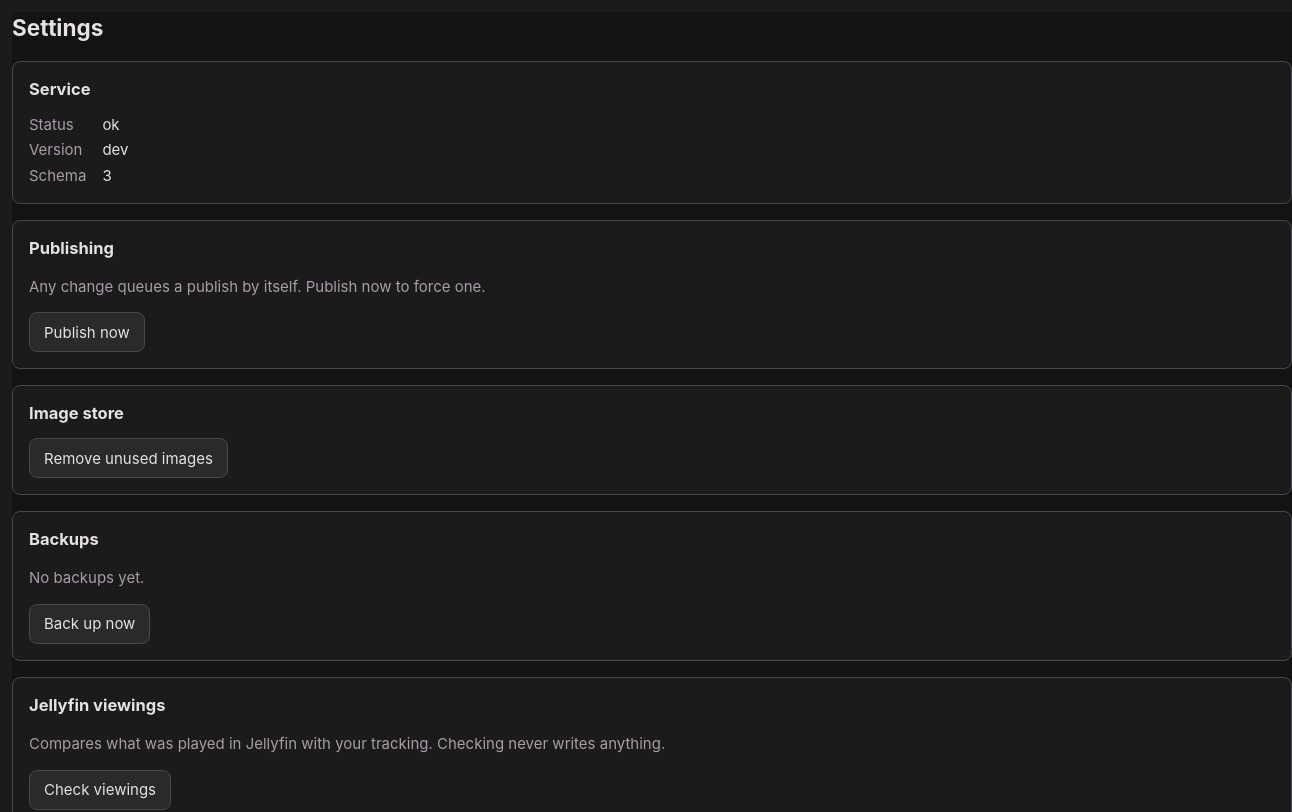
Test case: SettingsView Jellyfin sync › checks without writing and shows the counts
This screenshot has width=1292, height=812.
Click the button "Check viewings" at (100, 790), box [29, 770, 171, 810]
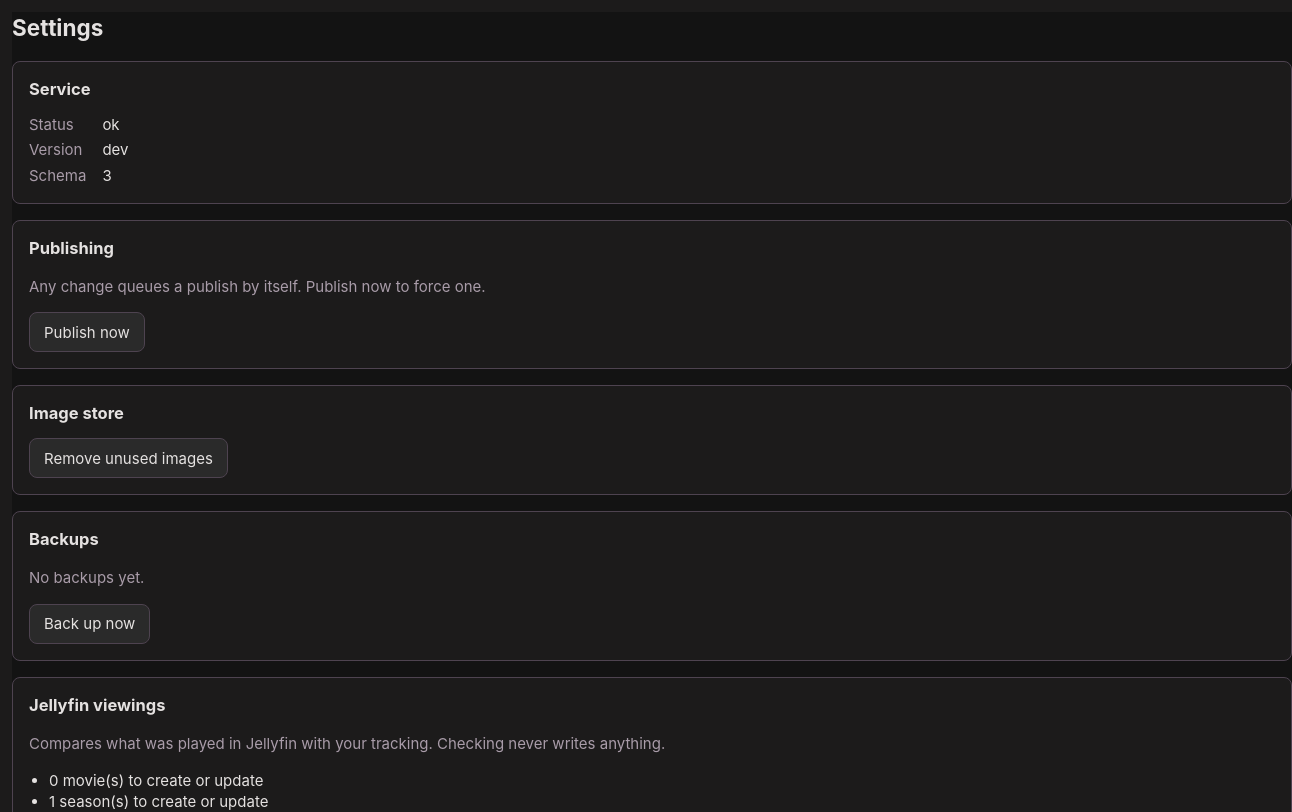
Now the text "1 season(s) to create or update" is shown, box [49, 792, 268, 811]
